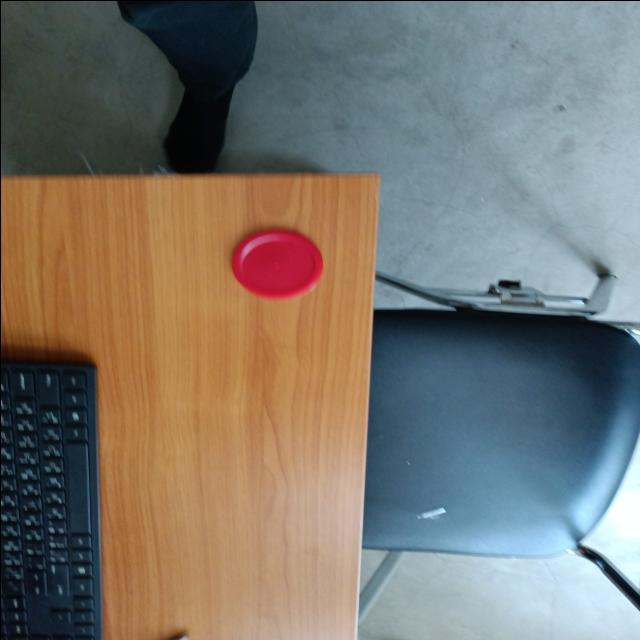chip: (227, 226, 325, 300)
